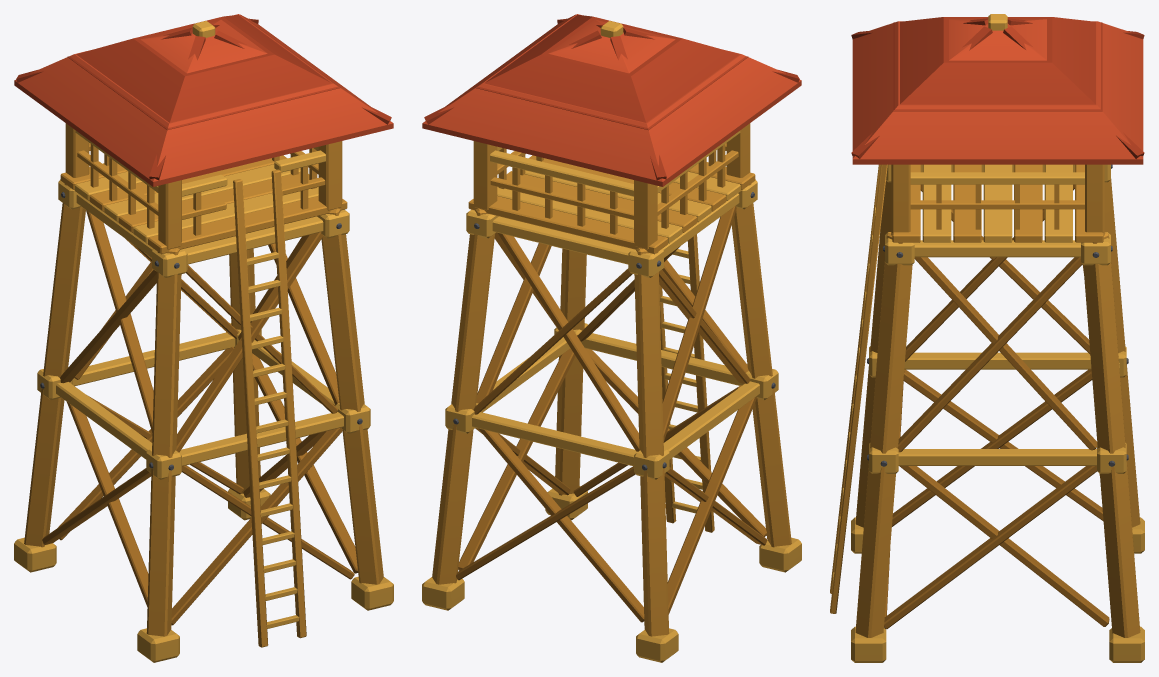
Rendered from lookout_tower.glb.
The picture shows the model from 3 angles, left to right: view 1: azimuth 30°, elevation 25°; view 2: azimuth 150°, elevation 25°; view 3: azimuth 270°, elevation 25°; orthographic projection. The views are drawn at different scales.
Visible parts, largest first — view 1: tower_frame, tower_roof, tower_ladder; view 2: tower_frame, tower_roof, tower_ladder; view 3: tower_frame, tower_roof, tower_ladder.
Boxes of the visible parts, bbox=[...] form: tower_frame: bbox=[14, 123, 393, 662]; tower_roof: bbox=[14, 14, 393, 186]; tower_ladder: bbox=[233, 169, 306, 647]; tower_frame: bbox=[422, 123, 801, 662]; tower_roof: bbox=[422, 14, 801, 186]; tower_ladder: bbox=[659, 234, 714, 532]; tower_frame: bbox=[851, 164, 1144, 662]; tower_roof: bbox=[851, 14, 1144, 164]; tower_ladder: bbox=[830, 164, 887, 613].
Bounding box in the file's own units: 4.55 × 10 × 4.87.
